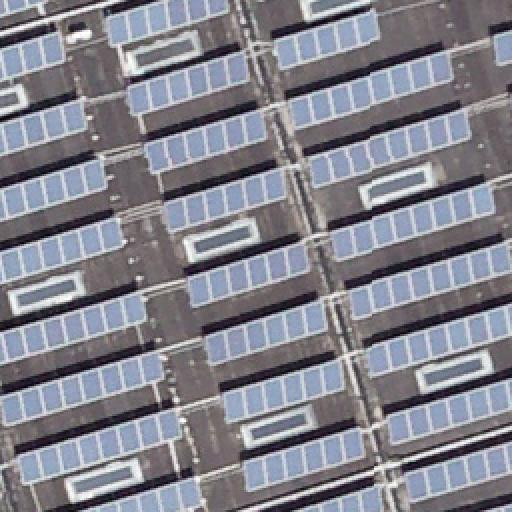solar-panel: (284, 48, 456, 132), (327, 180, 497, 264), (309, 105, 475, 191), (16, 405, 184, 483), (348, 241, 512, 319), (1, 348, 167, 424), (0, 286, 152, 362), (364, 301, 512, 379), (385, 374, 511, 446), (240, 421, 368, 491), (164, 164, 288, 236), (0, 216, 128, 284), (142, 110, 270, 178), (126, 49, 250, 119), (221, 356, 347, 424), (205, 296, 331, 364), (185, 240, 311, 308), (0, 157, 112, 227), (273, 7, 383, 73), (404, 439, 512, 505), (105, 0, 231, 48), (1, 97, 95, 159), (74, 473, 206, 511), (0, 30, 72, 82), (287, 480, 385, 512), (1, 0, 55, 20), (492, 28, 512, 68), (476, 500, 512, 512), (258, 0, 270, 4)
